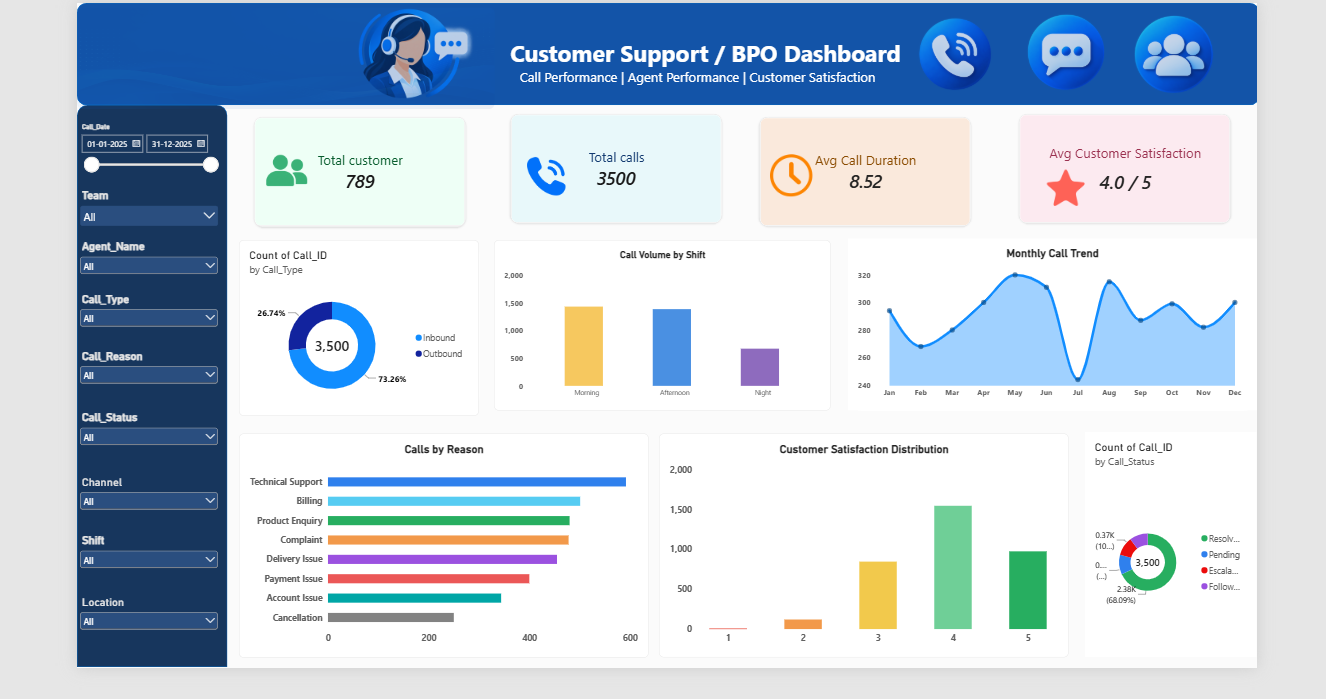

The page's visual inventory and layout, read from the dashboard file:
{"tool":"powerbi","page":{"name":"Page 1","canvas":[1920,1080],"ordinal":0},"visuals":[{"type":"shape","box":[0,0,1922.3,166.1],"z":0},{"type":"shape","box":[0,166.7,244.4,913.9],"z":1000},{"type":"textbox","box":[542.8,0,842.7,165.8],"z":2000},{"type":"slicer","fields":{"Values":["BPO_Data.Call_Date"]},"box":[0,194,233.3,88.9],"z":3000},{"type":"slicer","fields":{"Values":["BPO_Data.Team"]},"box":[0,301.9,234,70],"z":4000},{"type":"slicer","fields":{"Values":["BPO_Data.Agent_Name"]},"box":[0,385.2,233.9,70.4],"z":5000},{"type":"slicer","fields":{"Values":["BPO_Data.Call_Type"]},"box":[0,470.4,233.9,70.4],"z":6000},{"type":"slicer","fields":{"Values":["BPO_Data.Call_Reason"]},"box":[0,562.5,233.9,60.7],"z":7000},{"type":"slicer","fields":{"Values":["BPO_Data.Call_Status"]},"box":[0,664.3,233.9,70.4],"z":8000},{"type":"slicer","fields":{"Values":["BPO_Data.Channel"]},"box":[0,767.9,233.9,70.4],"z":9000},{"type":"slicer","fields":{"Values":["BPO_Data.Shift"]},"box":[0,864.3,233.9,70.4],"z":10000},{"type":"slicer","fields":{"Values":["BPO_Data.Location"]},"box":[0,962.5,233.9,70.4],"z":11000},{"type":"cardVisual","fields":{"Data":["BPO_Data.total customer"]},"box":[286.8,184.2,344.7,178.9],"z":12000},{"type":"image","box":[286.8,228.9,106.8,86.3],"z":13000},{"type":"cardVisual","fields":{"Data":["BPO_Data.Total calls"]},"box":[705.3,181.6,344,178],"z":14000},{"type":"image","box":[732,245.3,62.9,71],"z":15000},{"type":"cardVisual","fields":{"Data":["BPO_Data.Avg Call Duration"]},"box":[1110.5,184.2,344,178],"z":16000},{"type":"image","box":[1097.7,223.3,127.9,114],"z":17000},{"type":"cardVisual","fields":{"Data":["BPO_Data.Avg Customer Satisfaction"]},"box":[1531.6,181.6,344,178],"z":18000},{"type":"image","box":[1562.7,270.3,88.6,59.1],"z":19000},{"type":"shape","box":[265.5,386.4,389.1,277.3],"z":20000},{"type":"donutChart","fields":{"Category":["BPO_Data.Call_Type"],"Y":["CountNonNull(BPO_Data.Call_ID)"]},"box":[264,386,390,286],"z":21000},{"type":"shape","box":[678.3,385.8,547.5,277.5],"z":22000},{"type":"columnChart","title":"Call Volume by Shift","fields":{"Category":["BPO_Data.Shift"],"Y":["CountNonNull(BPO_Data.Call_ID)"]},"box":[678.3,385,547.5,277.5],"z":23000},{"type":"shape","box":[1253.8,385,666,278],"z":24000},{"type":"lineChart","title":"Monthly Call Trend","fields":{"Category":["BPO_Data.Month"],"Y":["CountNonNull(BPO_Data.Call_ID)"]},"box":[1253.8,383.9,665.5,279.4],"z":25000},{"type":"barChart","title":"Calls by Reason","fields":{"Category":["BPO_Data.Call_Reason"],"Y":["CountNonNull(BPO_Data.Call_ID)"]},"box":[264.4,700,666.1,364.4],"z":26000},{"type":"columnChart","title":"Customer Satisfaction Distribution","fields":{"Category":["BPO_Data.Customer_Satisfaction"],"Y":["CountNonNull(BPO_Data.Call_ID)"]},"box":[947.4,700,666,364],"z":27000},{"type":"donutChart","fields":{"Category":["BPO_Data.Call_Status"],"Y":["CountNonNull(BPO_Data.Call_ID)"]},"box":[1639.5,697.4,278.9,365.8],"z":28000},{"type":"image","box":[414,0,265.1,165.1],"z":29000},{"type":"image","box":[1346.3,12.2,164.2,141.9],"z":30000},{"type":"image","box":[1526.3,9.1,164,141],"z":31000},{"type":"image","box":[1703.5,11.4,164,141],"z":32000},{"type":"image","box":[0,7,679.1,165.1],"z":33000}]}

Visuals, with their boxes in screenshot pixels (x1, y1, x2, y2):
shape: pyautogui.locateOnScreen(73, 0, 1253, 102)
shape: pyautogui.locateOnScreen(73, 102, 223, 664)
textbox: pyautogui.locateOnScreen(406, 0, 924, 102)
slicer - BPO_Data.Call_Date: pyautogui.locateOnScreen(73, 119, 216, 174)
slicer - BPO_Data.Team: pyautogui.locateOnScreen(73, 185, 216, 228)
slicer - BPO_Data.Agent_Name: pyautogui.locateOnScreen(73, 237, 216, 280)
slicer - BPO_Data.Call_Type: pyautogui.locateOnScreen(73, 289, 216, 332)
slicer - BPO_Data.Call_Reason: pyautogui.locateOnScreen(73, 346, 216, 383)
slicer - BPO_Data.Call_Status: pyautogui.locateOnScreen(73, 408, 216, 451)
slicer - BPO_Data.Channel: pyautogui.locateOnScreen(73, 472, 216, 515)
slicer - BPO_Data.Shift: pyautogui.locateOnScreen(73, 531, 216, 574)
slicer - BPO_Data.Location: pyautogui.locateOnScreen(73, 591, 216, 635)
cardVisual - BPO_Data.total customer: pyautogui.locateOnScreen(249, 113, 460, 223)
image: pyautogui.locateOnScreen(249, 141, 314, 194)
cardVisual - BPO_Data.Total calls: pyautogui.locateOnScreen(506, 112, 717, 221)
image: pyautogui.locateOnScreen(522, 151, 561, 194)
cardVisual - BPO_Data.Avg Call Duration: pyautogui.locateOnScreen(755, 113, 966, 223)
image: pyautogui.locateOnScreen(747, 137, 825, 207)
cardVisual - BPO_Data.Avg Customer Satisfaction: pyautogui.locateOnScreen(1013, 112, 1225, 221)
image: pyautogui.locateOnScreen(1033, 166, 1087, 202)
shape: pyautogui.locateOnScreen(236, 237, 475, 408)
donutChart - BPO_Data.Call_Type x CountNonNull(BPO_Data.Call_ID): pyautogui.locateOnScreen(235, 237, 474, 413)
shape: pyautogui.locateOnScreen(489, 237, 826, 407)
"Call Volume by Shift" columnChart: pyautogui.locateOnScreen(489, 237, 826, 407)
shape: pyautogui.locateOnScreen(843, 237, 1252, 407)
"Monthly Call Trend" lineChart: pyautogui.locateOnScreen(843, 236, 1252, 407)
"Calls by Reason" barChart: pyautogui.locateOnScreen(235, 430, 644, 654)
"Customer Satisfaction Distribution" columnChart: pyautogui.locateOnScreen(655, 430, 1064, 654)
donutChart - BPO_Data.Call_Status x CountNonNull(BPO_Data.Call_ID): pyautogui.locateOnScreen(1080, 428, 1251, 653)
image: pyautogui.locateOnScreen(327, 0, 490, 101)
image: pyautogui.locateOnScreen(900, 7, 1000, 95)
image: pyautogui.locateOnScreen(1010, 6, 1111, 92)
image: pyautogui.locateOnScreen(1119, 7, 1220, 94)
image: pyautogui.locateOnScreen(73, 4, 490, 106)
